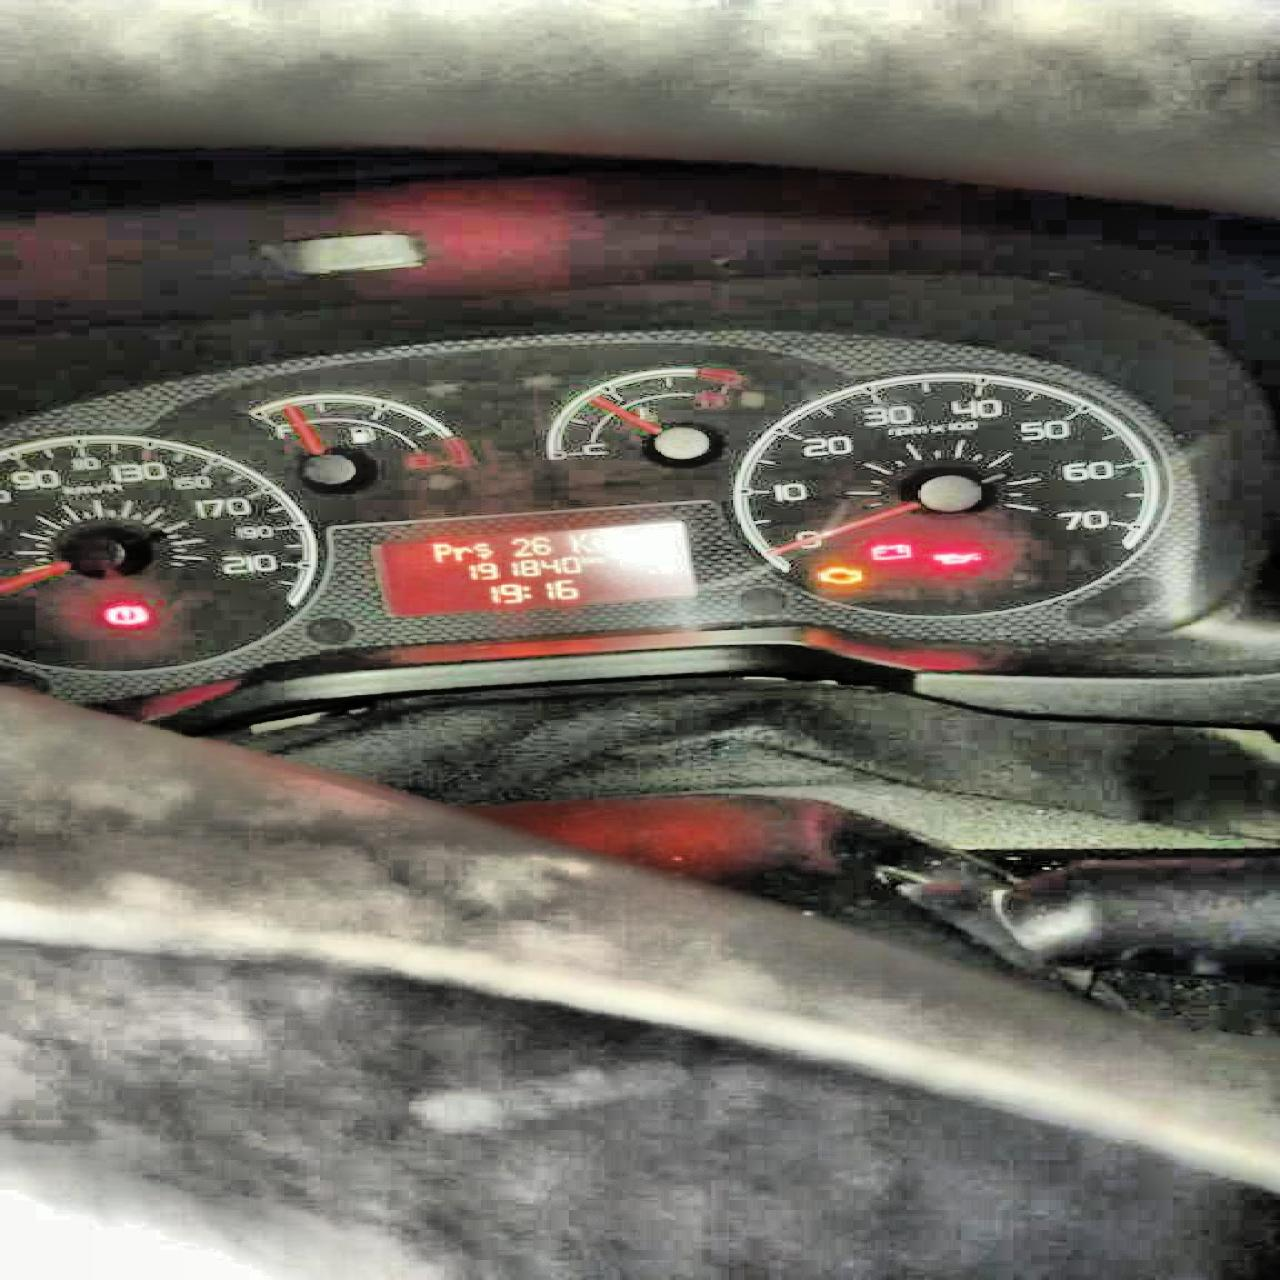0: (558, 554, 580, 574)
1: (543, 581, 553, 600), (486, 585, 497, 604), (467, 564, 476, 580), (509, 560, 518, 576)
2: (509, 537, 531, 558)
4: (538, 558, 558, 573)
6: (553, 579, 578, 599), (529, 535, 549, 554)
8: (518, 559, 538, 577)
9: (496, 583, 523, 602), (476, 561, 497, 579)
X: (567, 532, 588, 553), (429, 543, 451, 563), (471, 542, 491, 558), (451, 545, 471, 560), (520, 584, 531, 599)
odometer: (367, 519, 697, 619)
